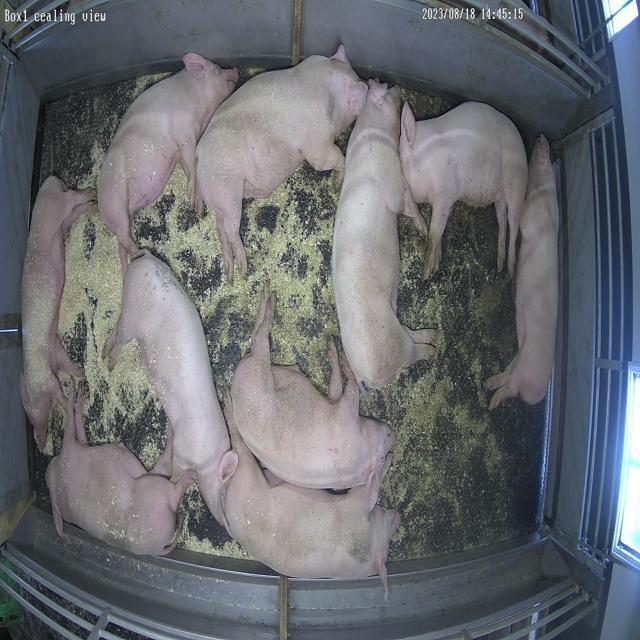Dirt: (382, 204, 546, 560), (433, 402, 546, 554), (402, 87, 456, 120)
Pig: (197, 44, 368, 280), (106, 251, 237, 528), (224, 396, 400, 594), (231, 286, 396, 490), (333, 79, 437, 388), (97, 53, 239, 260), (400, 102, 529, 278), (46, 393, 181, 556), (20, 176, 93, 451), (487, 135, 560, 410)
